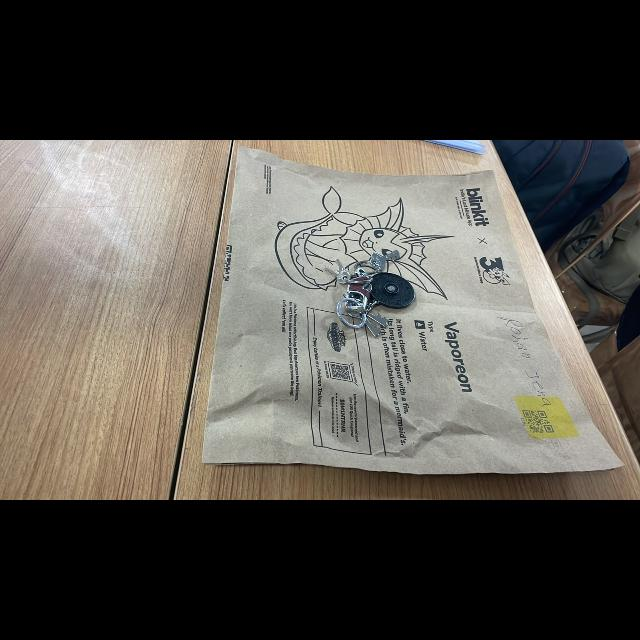keys: (322, 235, 426, 347)
